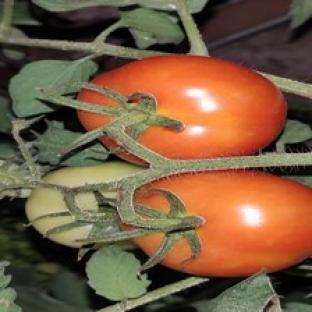Tomato: (91, 55, 286, 160), (136, 170, 311, 277), (26, 189, 75, 235)
